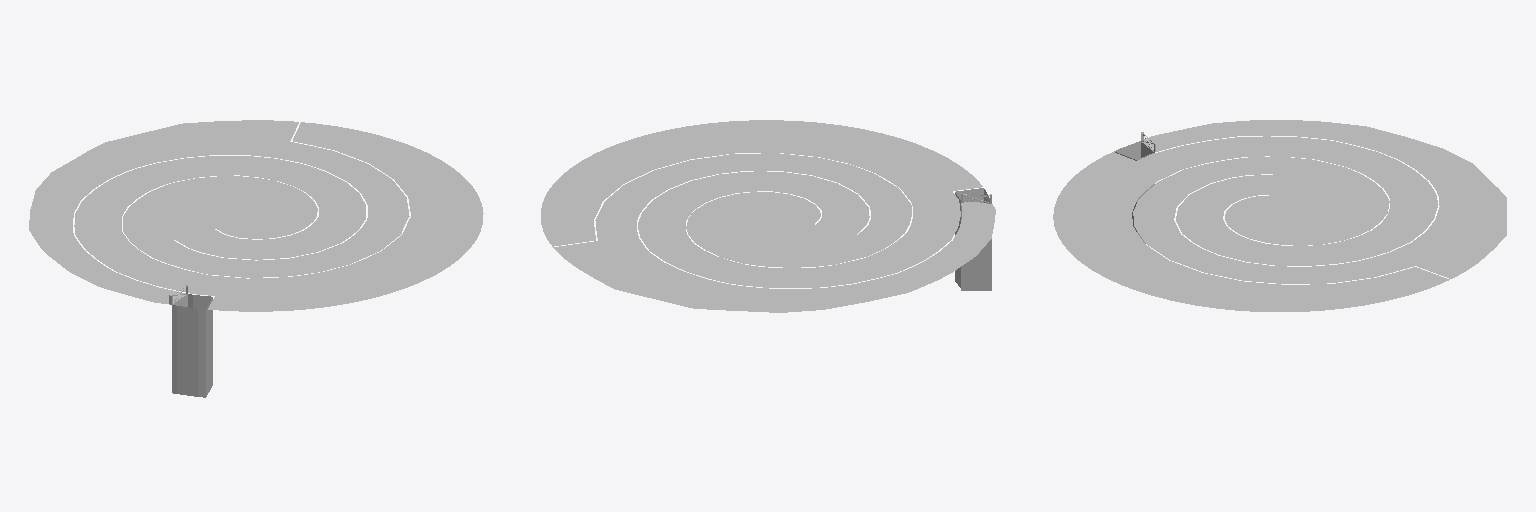
Rendered from LevelDesignNewFloors.obj.
The picture shows the model from 3 angles: view 1: azimuth 30°, elevation 25°; view 2: azimuth 150°, elevation 25°; view 3: azimuth 270°, elevation 25°; orthographic projection.
Visible parts, largest first — view 1: Circle.007_Circle.010, Circle.001_Circle.006; view 2: Circle.007_Circle.010, Circle.001_Circle.006; view 3: Circle.001_Circle.006, Circle.007_Circle.010.
Part boxes in pixels (left/top/right/bottom): Circle.007_Circle.010: left=29, top=120, right=409, bottom=397; Circle.001_Circle.006: left=74, top=122, right=483, bottom=311; Circle.007_Circle.010: left=553, top=153, right=995, bottom=312; Circle.001_Circle.006: left=541, top=120, right=982, bottom=287; Circle.001_Circle.006: left=1053, top=136, right=1449, bottom=311; Circle.007_Circle.010: left=1114, top=120, right=1506, bottom=283.
Bounding box in the file's own units: 37.04 × 8.73 × 36.89.